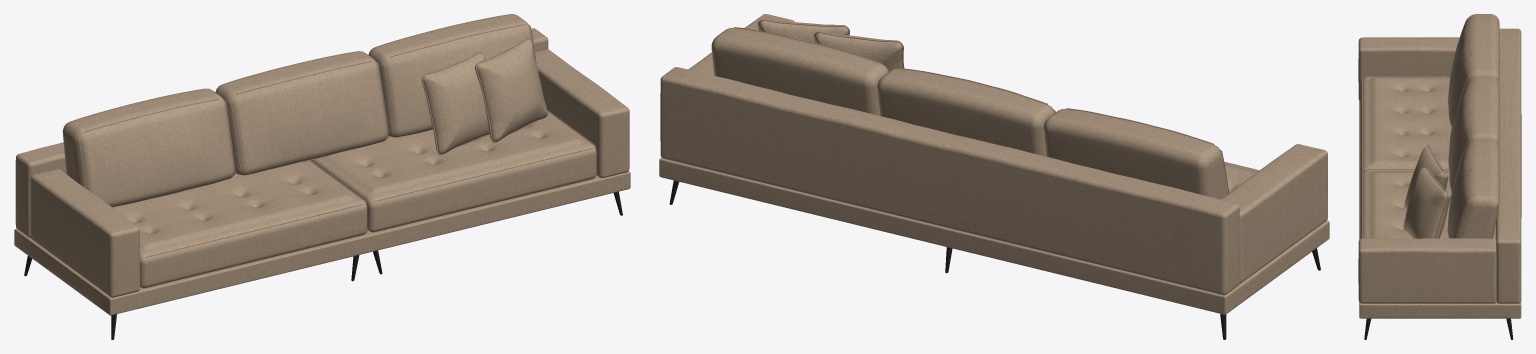
Rendered from straight.glb.
3 views of the same model, side by side, from view 1: azimuth 30°, elevation 25°; view 2: azimuth 150°, elevation 25°; view 3: azimuth 270°, elevation 25° (orthographic). The views are drawn at different scales.
Visible parts, largest first — view 1: fabric (×2), pillows (×2), legs; view 2: fabric (×2), pillows, legs; view 3: fabric (×2), pillows (×2), legs.
Boxes of the visible parts, <box> form: fabric (×2): <box>14,14,630,315</box>; pillows (×2): <box>421,37,547,155</box>; legs: <box>24,191,622,339</box>; fabric (×2): <box>659,14,1329,314</box>; pillows: <box>759,19,902,70</box>; legs: <box>669,180,1320,339</box>; fabric (×2): <box>1358,14,1521,318</box>; pillows (×2): <box>1403,145,1450,238</box>; legs: <box>1364,318,1513,339</box>.
Size of the model in its own units: 3 by 0.864 by 0.9655.
3 materials, 2 textured.
